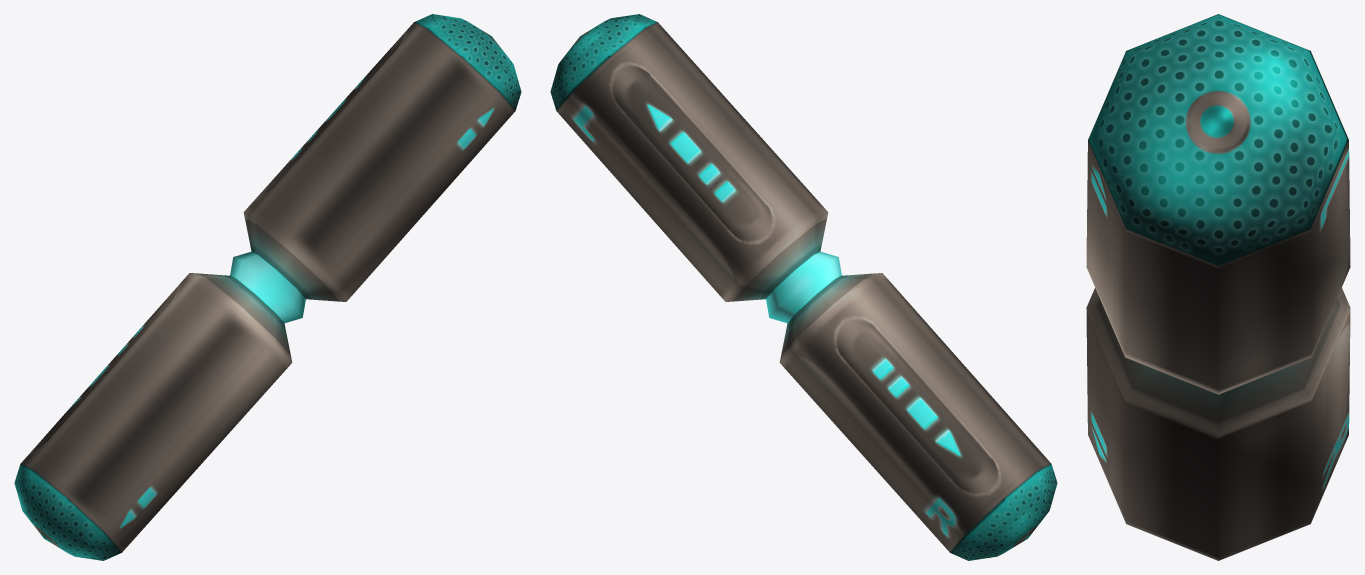
3 renders of one model, left to right at view 1: azimuth 30°, elevation 25°; view 2: azimuth 150°, elevation 25°; view 3: azimuth 270°, elevation 25°, orthographic. The views are drawn at different scales.
Visible parts, largest first — view 1: 3_Z_29; view 2: 3_Z_29; view 3: 3_Z_29.
Part boxes in pixels (<box>): 3_Z_29: <box>14,14,521,560</box>; 3_Z_29: <box>550,14,1057,560</box>; 3_Z_29: <box>1086,14,1350,560</box>.
Size of the model in its own units: 128 by 31.38 by 113.
